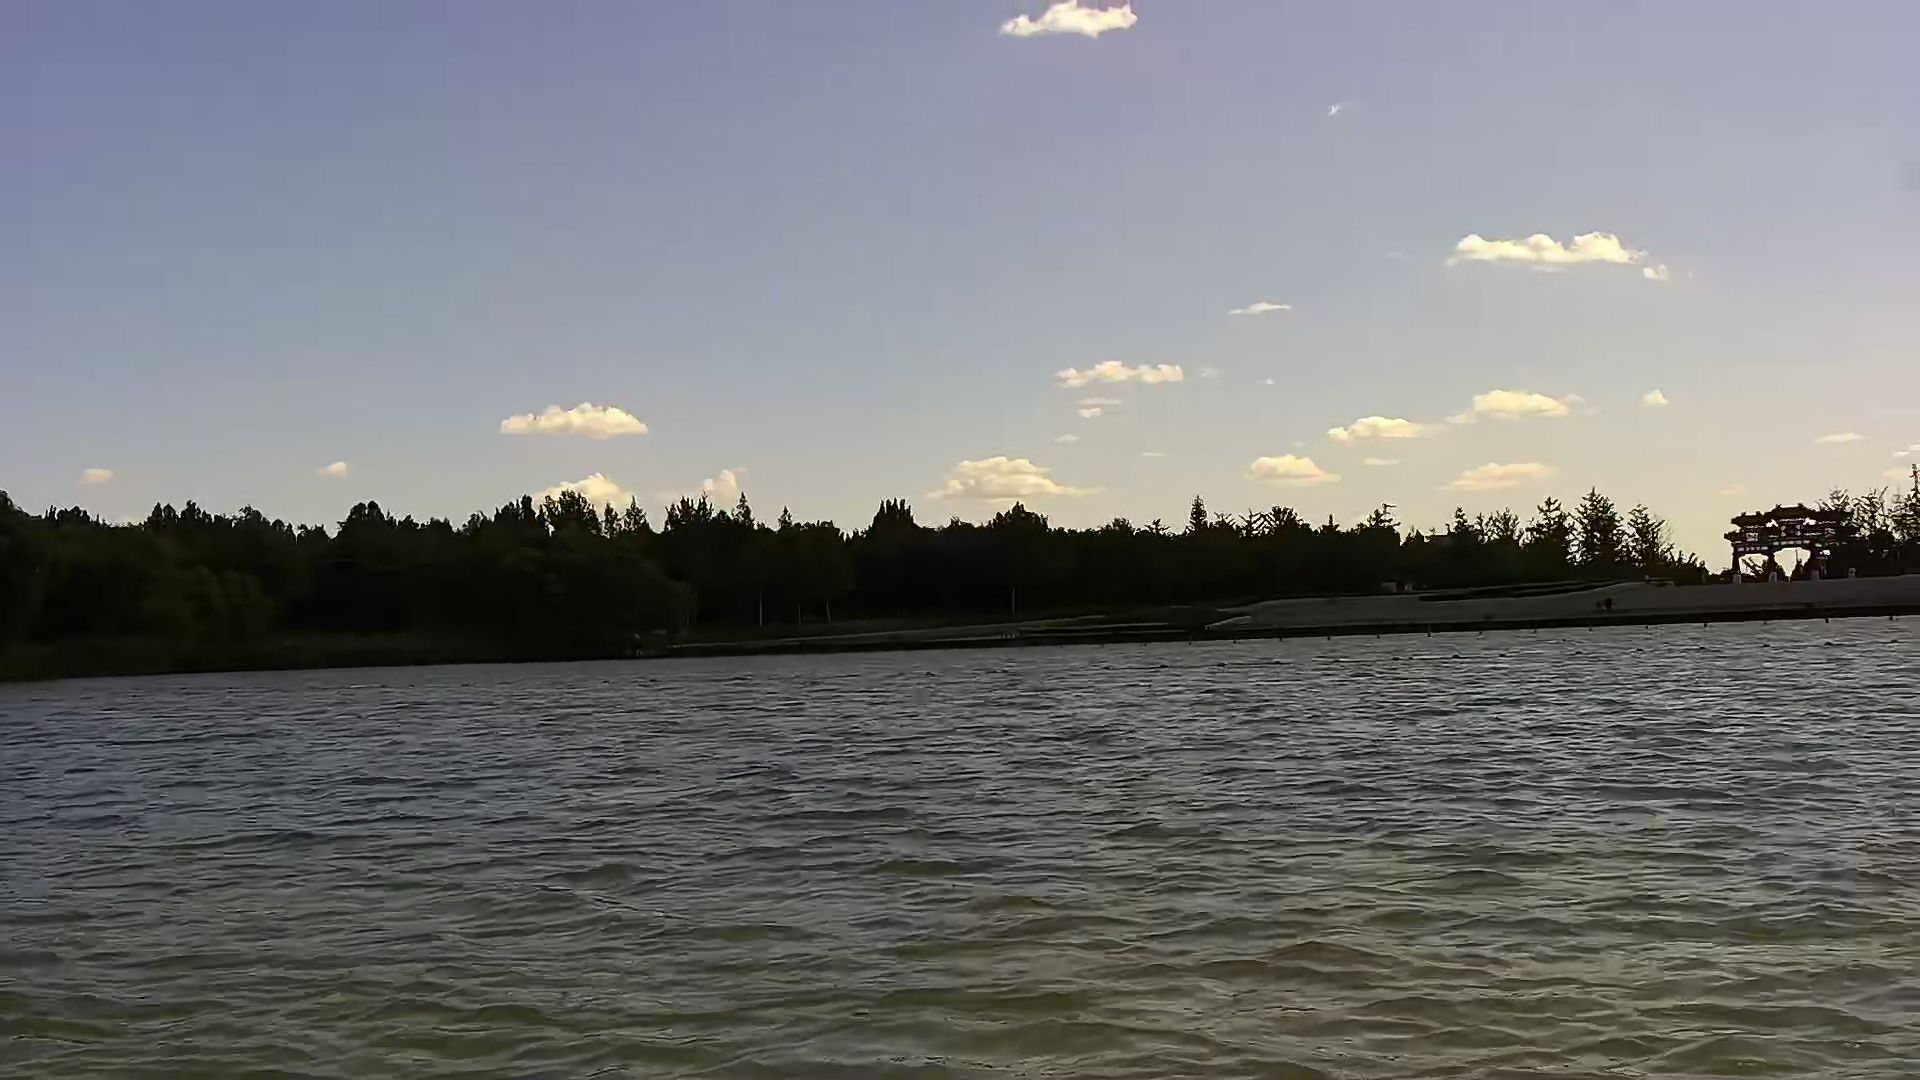harbor: (700, 589, 1920, 659)
